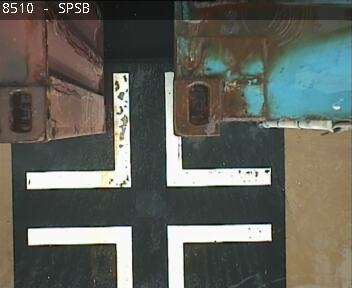groundmarker_1: (24, 73, 269, 189), (27, 224, 270, 288)
